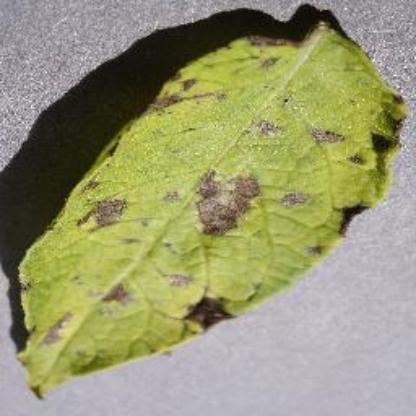Early-Blight: (8, 0, 414, 404)
